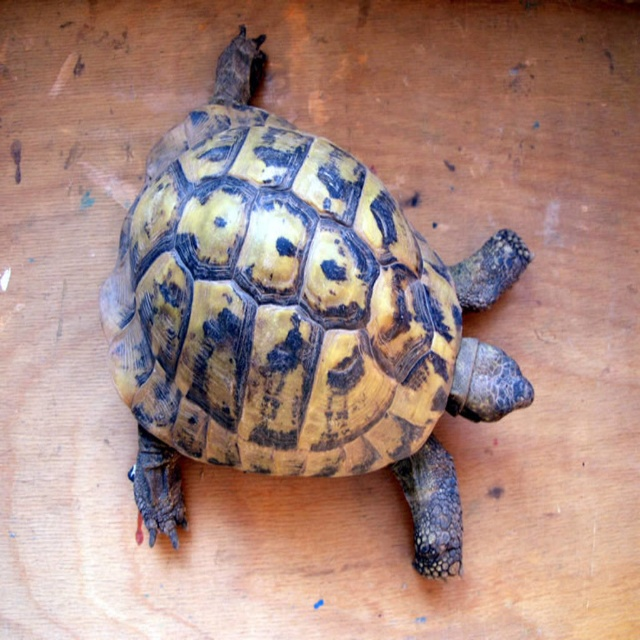Sea turtle: (99, 25, 534, 576)
